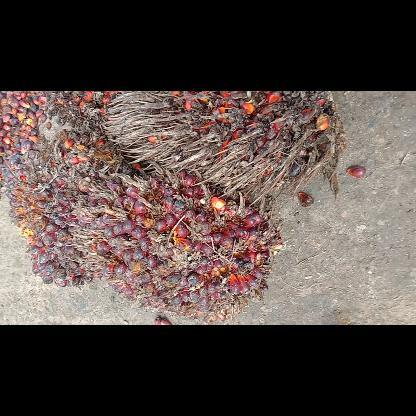TBS masak: (72, 167, 284, 323), (5, 132, 149, 286)
Terlalu masak: (104, 91, 344, 204), (46, 90, 120, 130)
